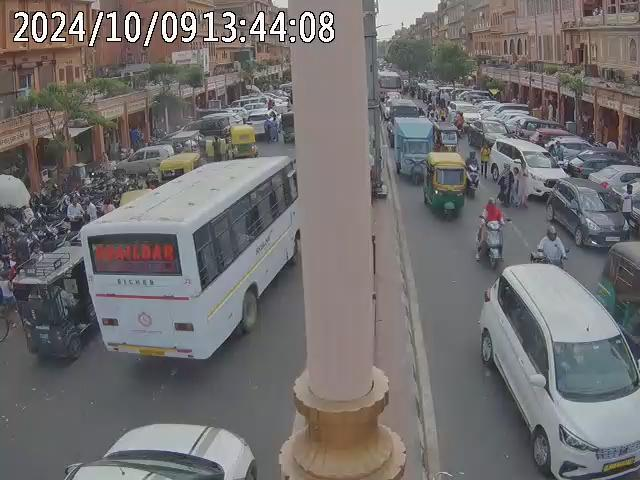auto: (10, 245, 95, 362), (599, 238, 639, 367), (424, 153, 466, 218)
bus: (78, 152, 305, 374)
car: (480, 261, 640, 480), (64, 420, 258, 479), (547, 178, 627, 252), (489, 134, 569, 202), (587, 163, 638, 208), (547, 137, 601, 167), (492, 111, 540, 135), (450, 102, 483, 125), (457, 88, 495, 103)
helmet: (486, 198, 496, 207)
license_plate: (602, 456, 640, 473), (139, 348, 168, 360)
lorry: (393, 117, 437, 180)
person: (494, 163, 522, 208), (262, 111, 282, 142)
scooty-rider: (475, 197, 507, 270)
